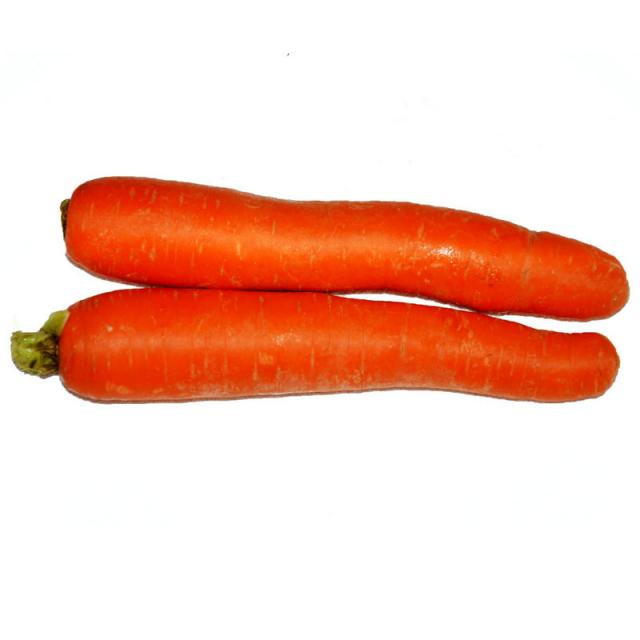Carrot: (62, 176, 632, 322), (3, 290, 618, 404)
